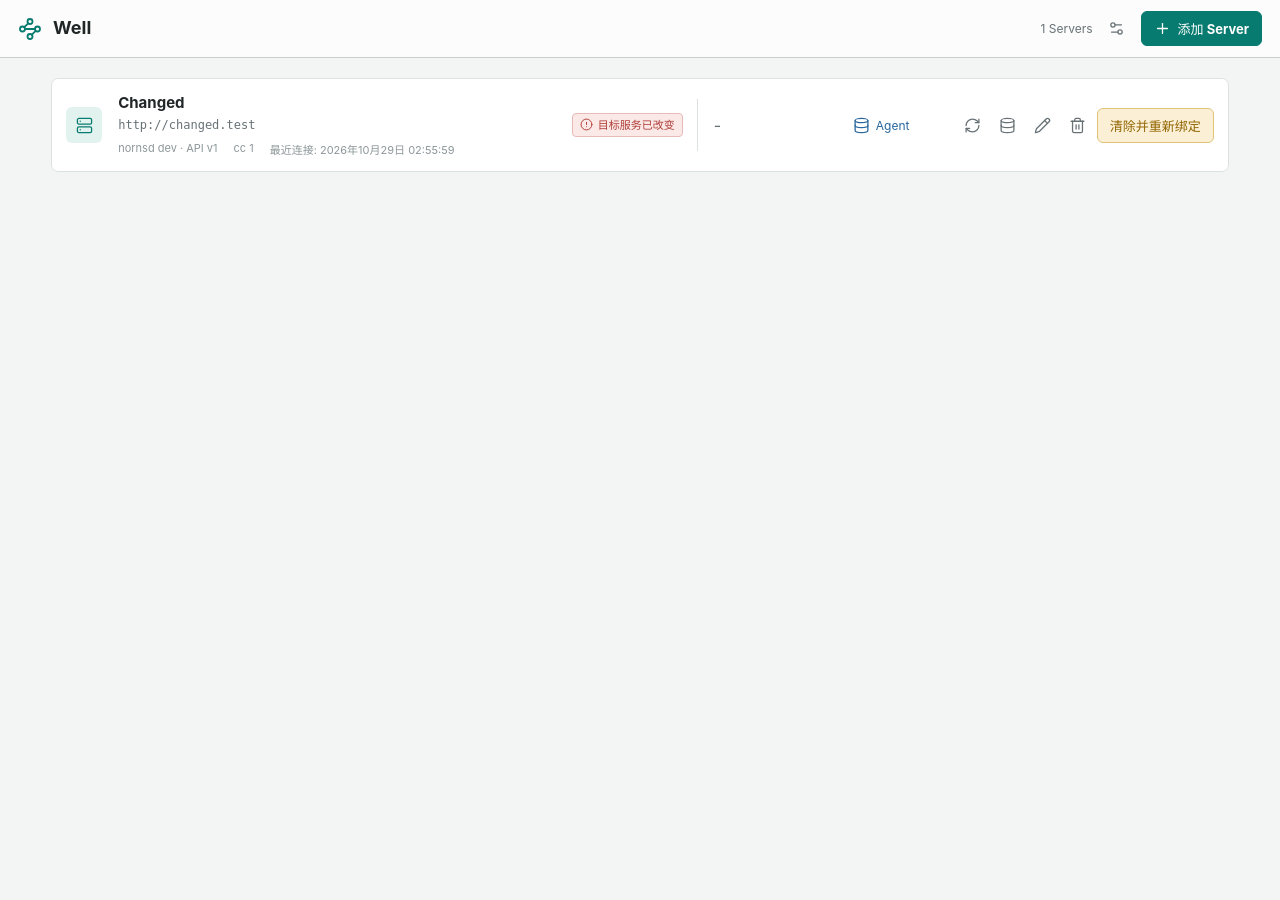
Test: clears local state and rebinds a changed target service
This screenshot has width=1280, height=900.
Click the button "清除并重新绑定": (1155, 125) x1=1097 y1=108 x2=1214 y2=142
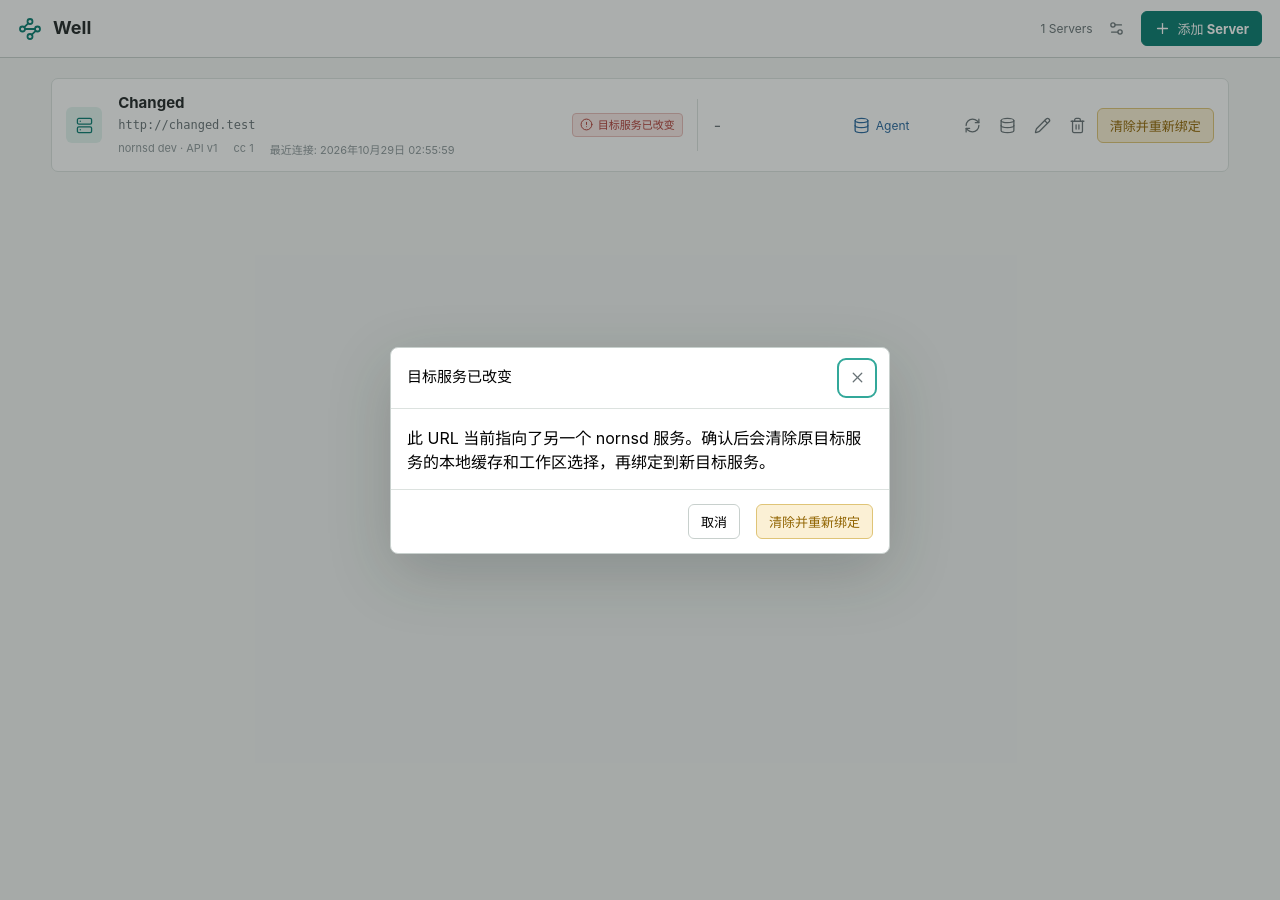
Now the heading "目标服务已改变" is shown, box x1=407 y1=367 x2=512 y2=388
Click the button "清除并重新绑定": (814, 521) x1=756 y1=504 x2=873 y2=538
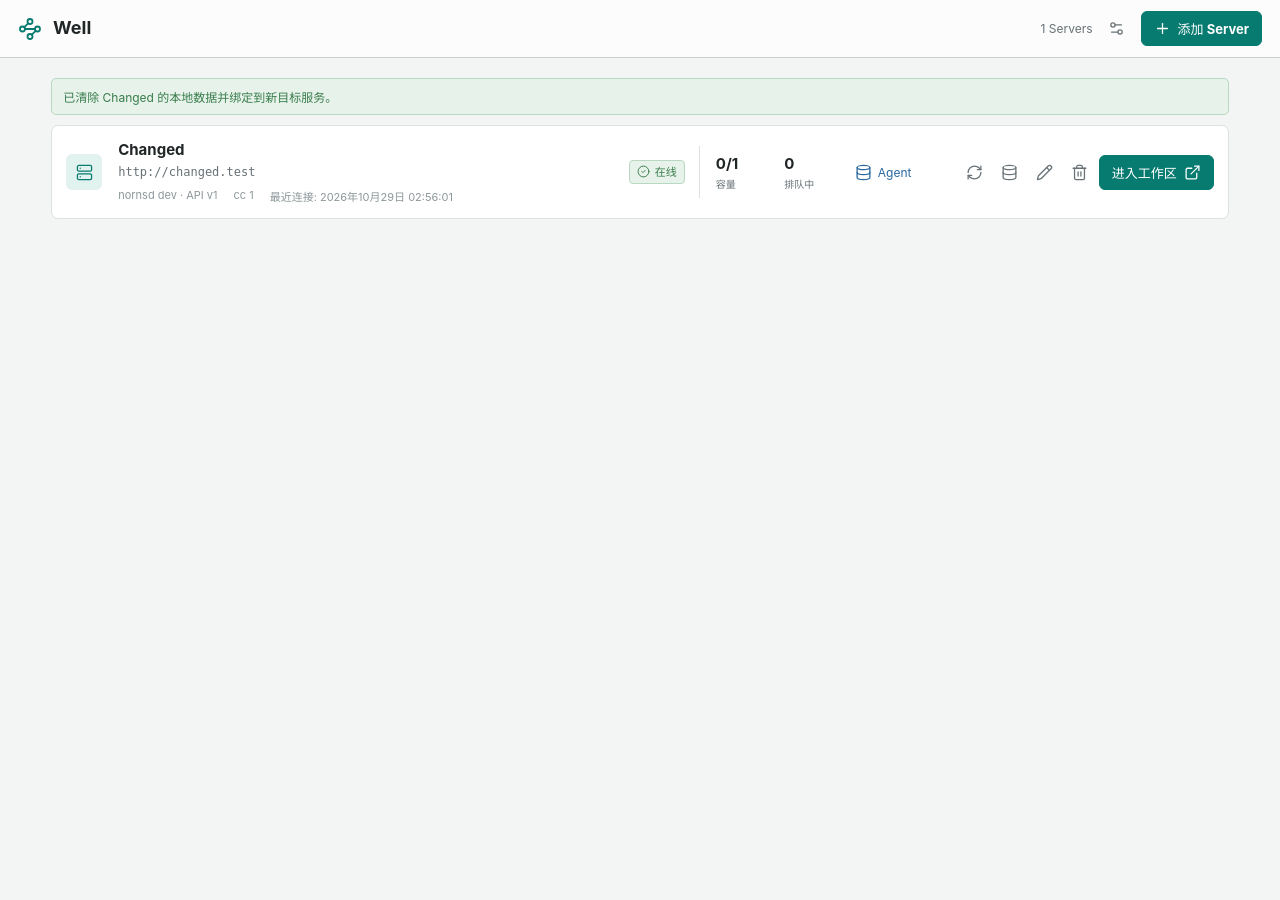
Now the message reads "已清除 Changed 的本地数据并绑定到新目标服务。", box x1=63 y1=90 x2=337 y2=105
